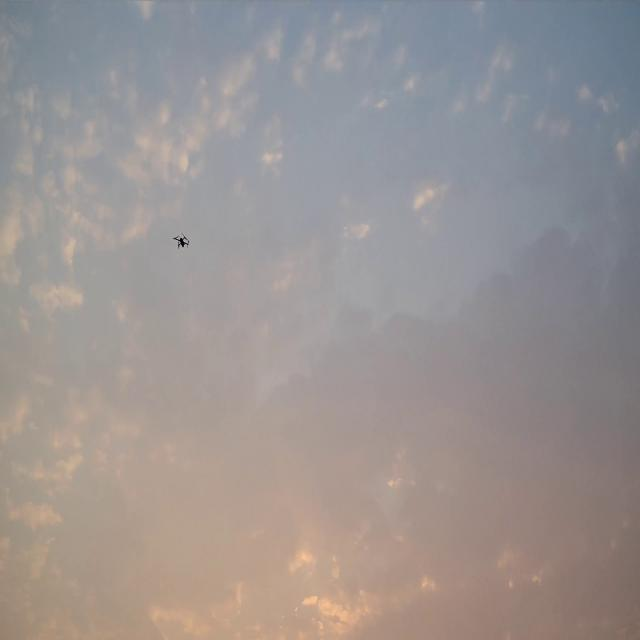drone: (172, 232, 190, 249)
